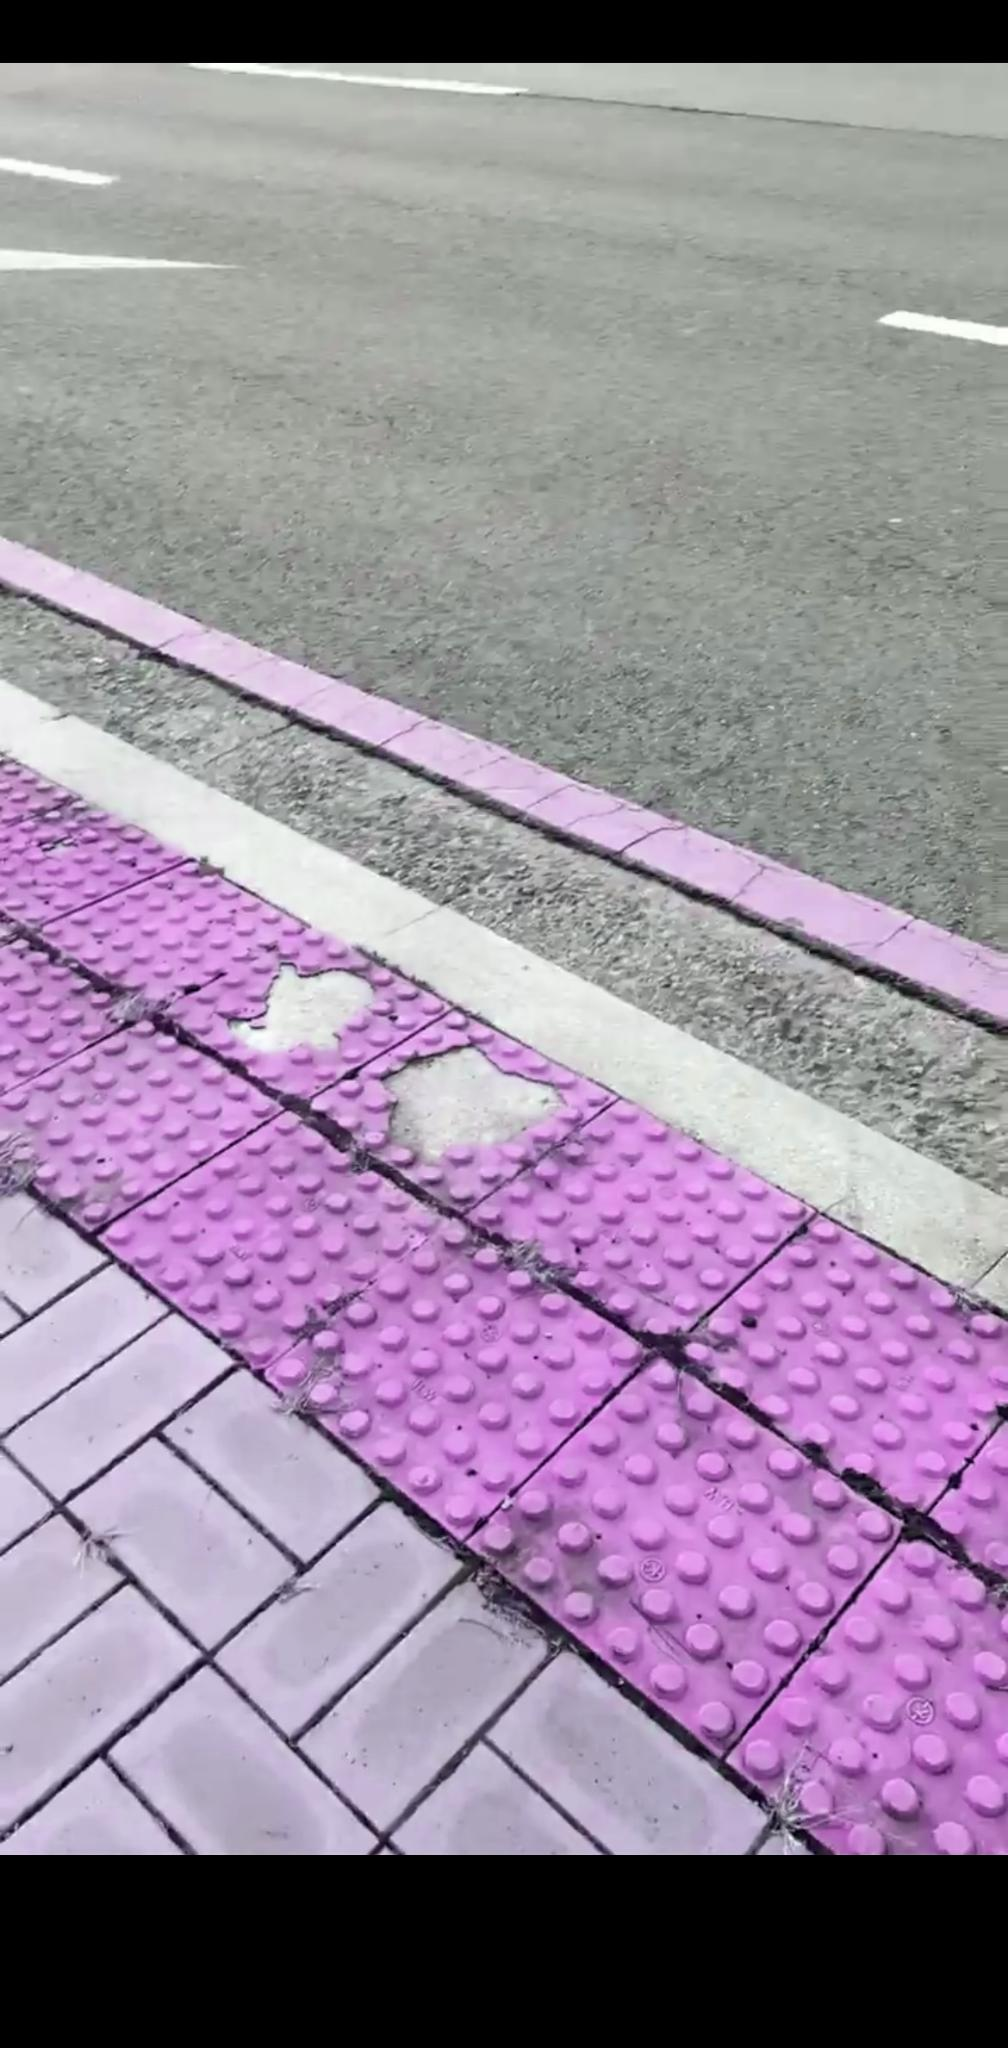Stop block broken: (306, 1011, 616, 1212), (161, 930, 450, 1101)
Stop block normal: (467, 1353, 901, 1753)
